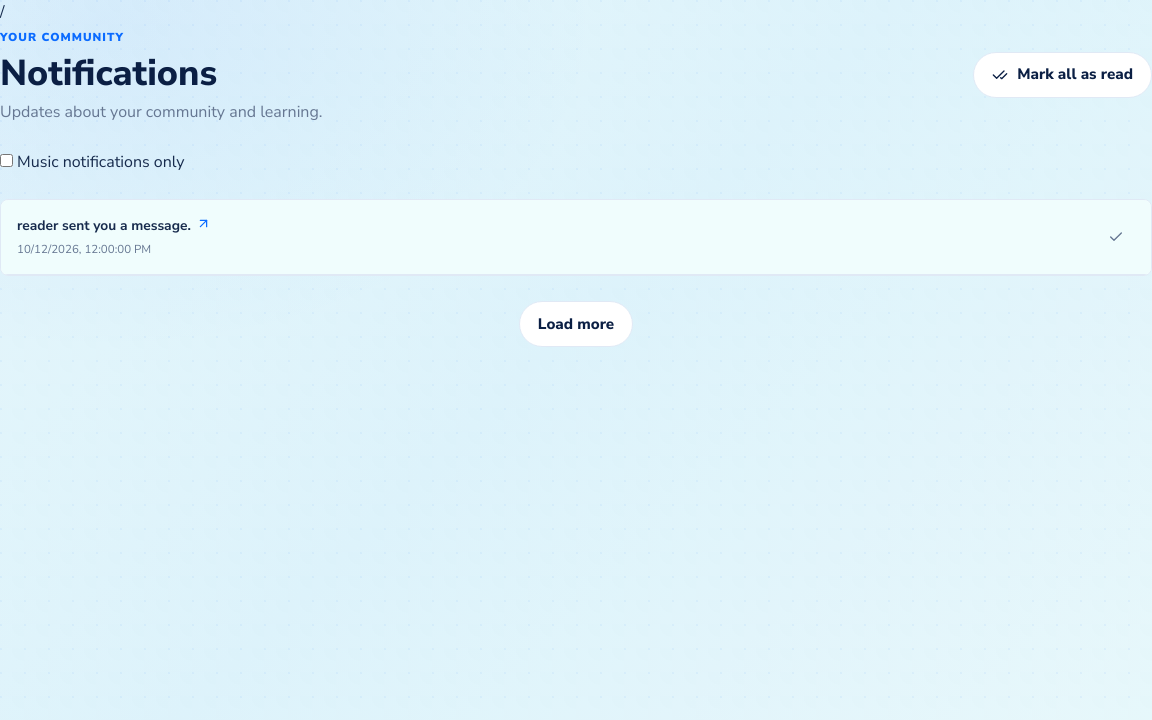
Test case: NotificationsPage › loads the next cursor page
This screenshot has width=1152, height=720.
Check: the text "reader sent you a message." is shown, box [17,216,191,236]
Click the button "Load more" at (576, 324), box [519,301,633,347]
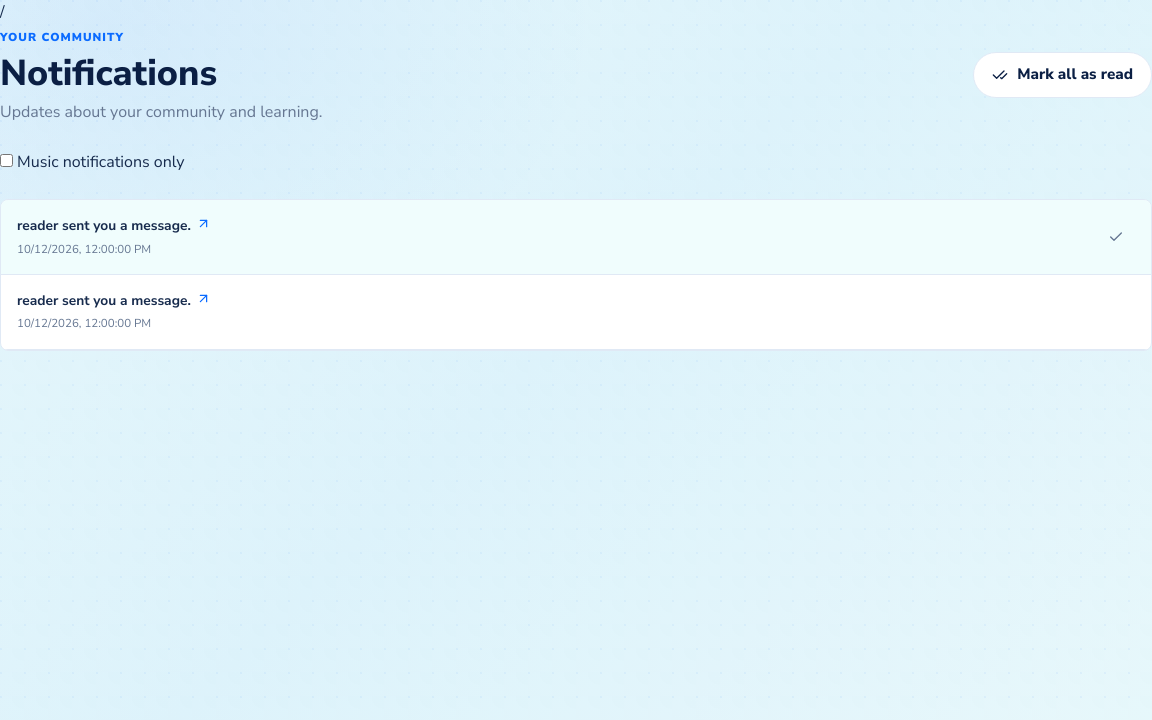
Check: the text "reader sent you a message." is shown 2 times, box [17,216,191,236]; [17,291,191,310]
